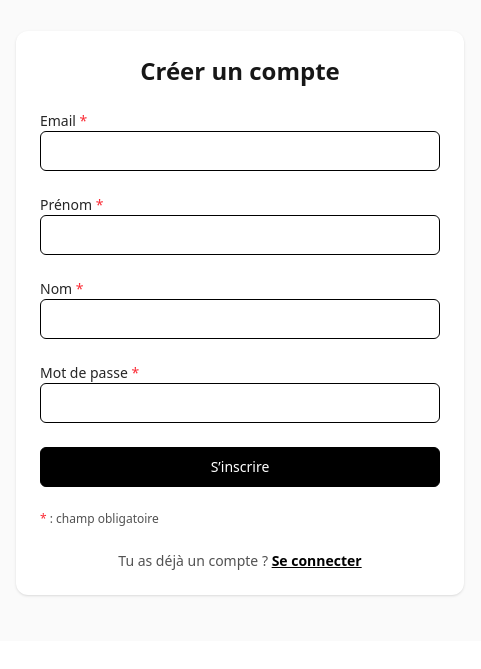
Test: RegisterPage › affiche un message d’erreur si les champs sont vides
Click the button "S’inscrire": x=240, y=467 x1=40 y1=447 x2=440 y2=487
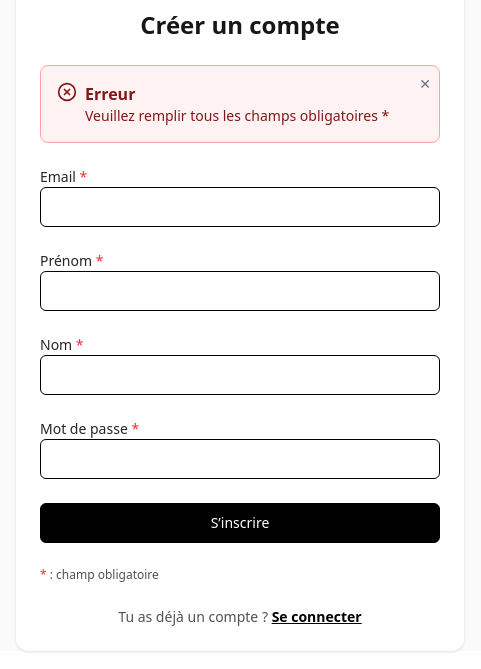
Now the text "Veuillez remplir tous les champs obligatoires *" is shown, box x1=85 y1=106 x2=423 y2=126
